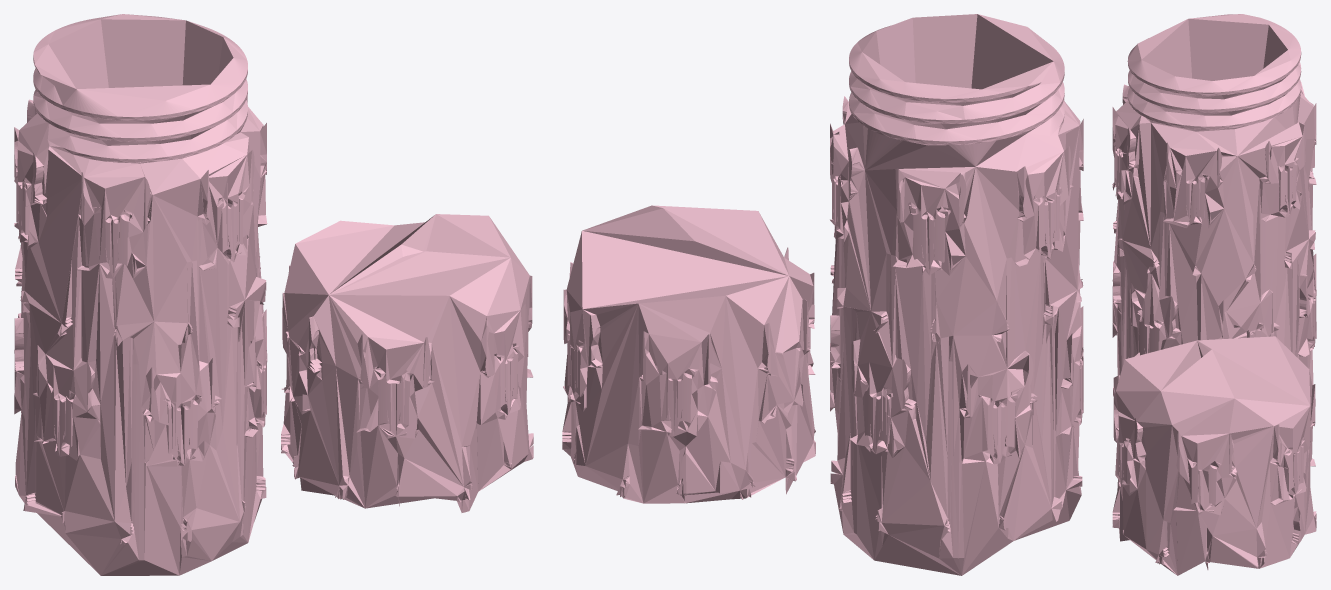
The model's file is llavero-protector-labial.glb.
3 views of the same model, side by side, from view 1: azimuth 30°, elevation 25°; view 2: azimuth 150°, elevation 25°; view 3: azimuth 270°, elevation 25° (orthographic). The views are drawn at different scales.
Visible parts, largest first — view 1: pieza; view 2: pieza; view 3: pieza.
Boxes of the visible parts, box(x1,y1,x2,y2) form: pieza: box(14, 14, 533, 575); pieza: box(562, 14, 1083, 575); pieza: box(1112, 14, 1316, 575).
Size of the model in its own units: 0.061 by 0.0583 by 0.0275.
